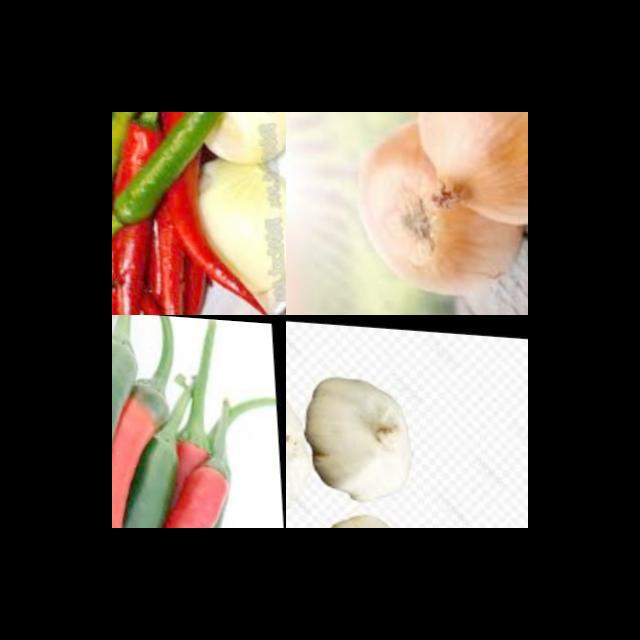garlic: (302, 367, 424, 505)
onion: (348, 118, 528, 302), (185, 150, 286, 298), (404, 112, 528, 230), (190, 112, 286, 169)
